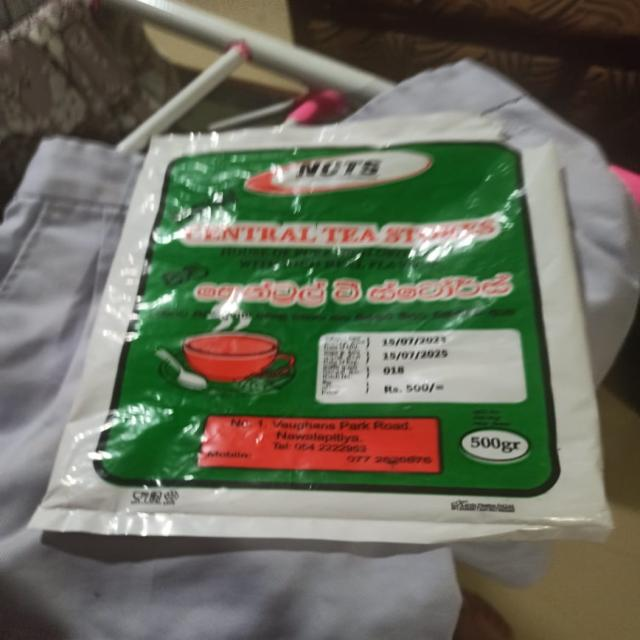Central Tea: (110, 113, 612, 558)
